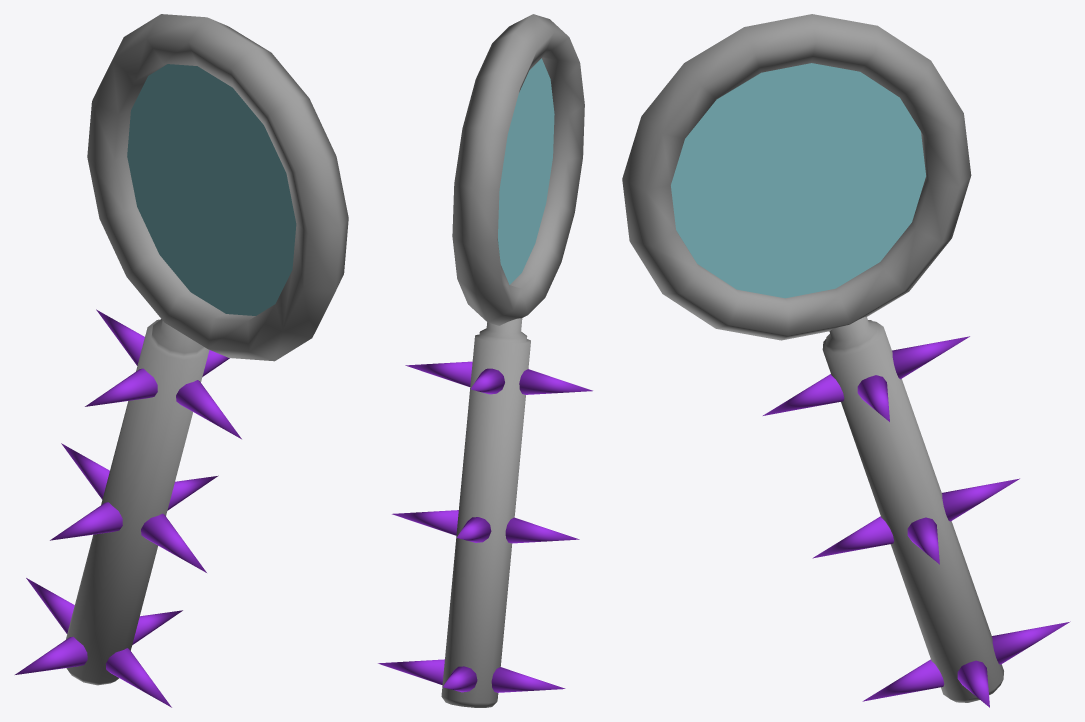
The model's file is glass.glb.
3 views of the same model, side by side, from view 1: azimuth 30°, elevation 25°; view 2: azimuth 150°, elevation 25°; view 3: azimuth 270°, elevation 25° (orthographic). The views are drawn at different scales.
Visible parts, largest first — view 1: Magnifying_Glass; view 2: Magnifying_Glass; view 3: Magnifying_Glass.
Part boxes in pixels (x1=…): Magnifying_Glass: x1=15, y1=14, x2=348, y2=707; Magnifying_Glass: x1=378, y1=14, x2=592, y2=707; Magnifying_Glass: x1=622, y1=14, x2=1070, y2=707.
Bounding box in the file's own units: 470 × 1501 × 876.
